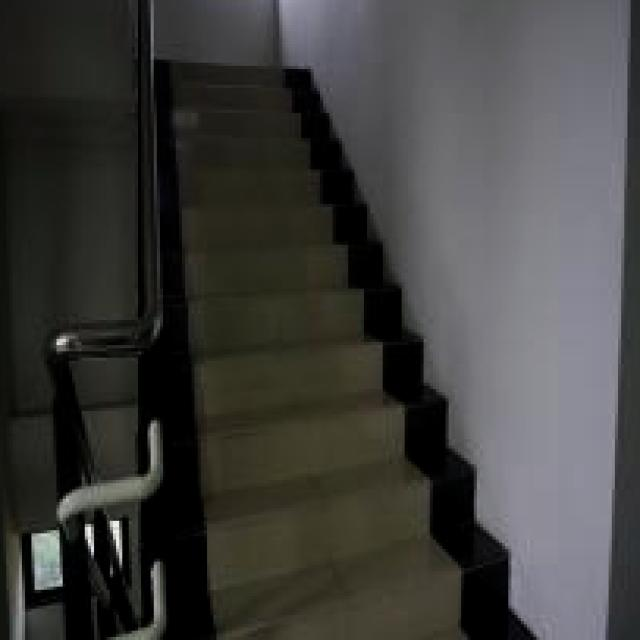upstair: (167, 29, 403, 640)
